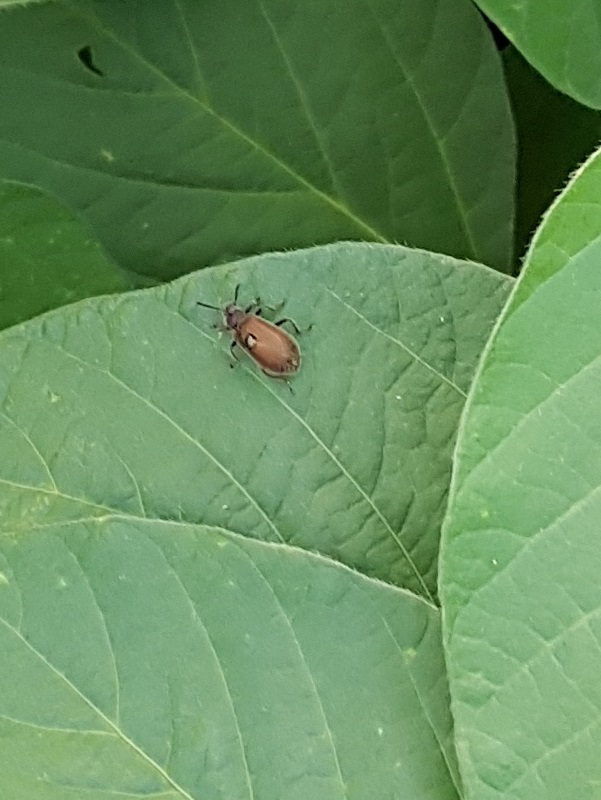Lagria_villosa: (191, 274, 329, 397)
